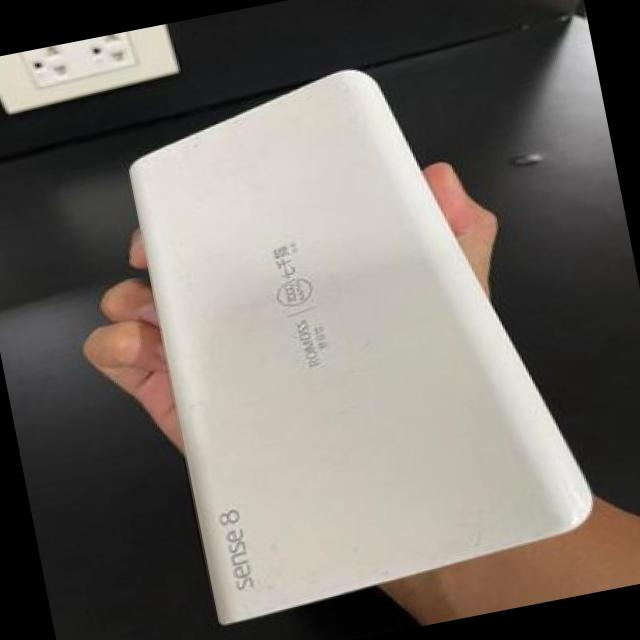power_bank: (100, 34, 610, 633)
